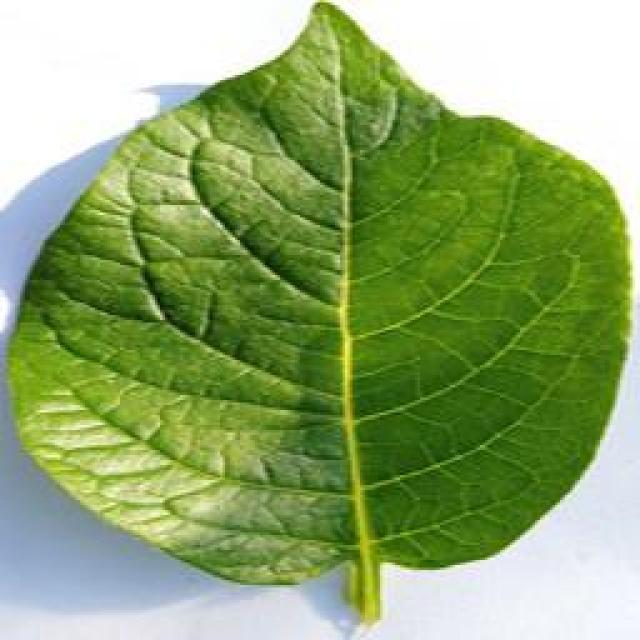Potato_Healthy: (9, 8, 639, 630)
